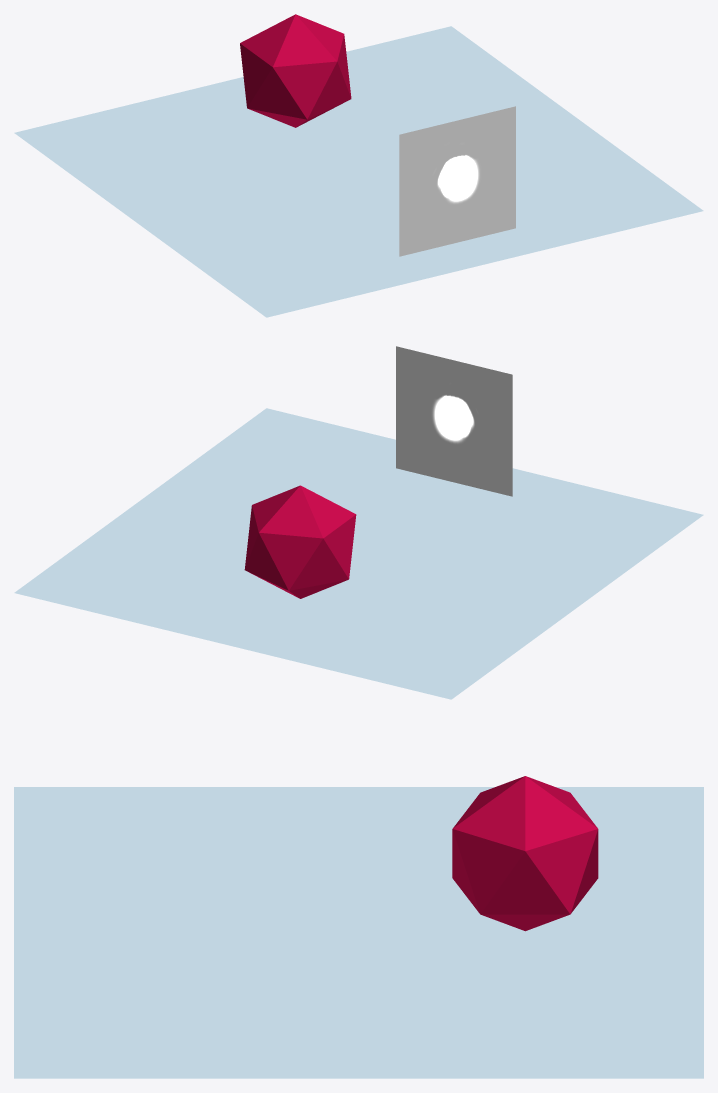
File: small_light.glb
3 views of the same model, one above another, from view 1: azimuth 30°, elevation 25°; view 2: azimuth 150°, elevation 25°; view 3: azimuth 270°, elevation 25° (orthographic). The views are drawn at different scales.
Parts seen in each view (by area): view 1: Plane, Plane.001, Icosphere; view 2: Plane, Plane.001, Icosphere; view 3: Plane, Icosphere.
Boxes of the visible parts, bbox=[...] form: Plane: bbox=[14, 26, 703, 317]; Plane.001: bbox=[399, 106, 515, 256]; Icosphere: bbox=[240, 14, 351, 127]; Plane: bbox=[14, 408, 703, 699]; Plane.001: bbox=[396, 346, 512, 496]; Icosphere: bbox=[244, 485, 356, 598]; Plane: bbox=[14, 787, 703, 1078]; Icosphere: bbox=[452, 776, 598, 931].
Bounding box in the file's own units: 2 × 0.5334 × 2.
